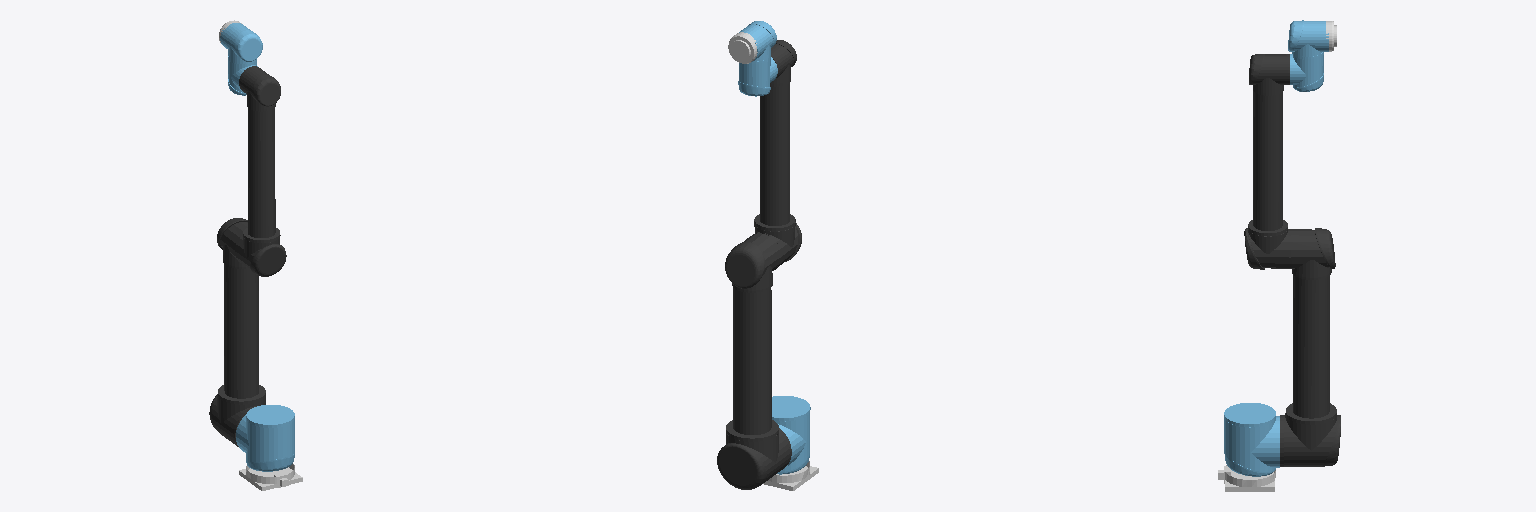
robot.urdf — UR10_urdf:
<?xml version="1.0"?>
<robot name="UR10_urdf">
    <link name="base">
        <inertial>
            <origin xyz="0.000000 0.000000 0.000000" rpy="-3.141593 3.141593 -3.141593" />
            <inertia ixx="0.031399998813868" ixy="0.0" ixz="0.0" iyy="0.031399998813868" izz="0.031399998813868" iyz="0.0" />
            <mass value="1.5700000524521" />
        </inertial>
        <collision>
            <origin xyz="0.000000 0.000000 0.000000" rpy="-3.141593 3.141593 -3.141593" />
            <geometry>
                <mesh filename="package://ur_description/meshes/ur10/ur10_base.dae" />
            </geometry>
        </collision>
        <visual>
            <origin xyz="0.000000 0.000000 0.000000" rpy="-3.141593 3.141593 -3.141593" />
            <geometry>
                <mesh filename="package://ur_description/meshes/ur10/ur10_base_visual.dae" />
            </geometry>
            <material name="base_texture">
                <color rgba="0.870588 0.870588 0.870588 1.0" />
            </material>
        </visual>
    </link>
    <link name="link1">
        <inertial>
            <origin xyz="0.000000 0.000000 0.000000" rpy="0 3.141593 3.141593" />
            <inertia ixx="0.15600000321865" ixy="0.0" ixz="0.0" iyy="0.15600000321865" izz="0.15600000321865" iyz="0.0" />
            <mass value="3.9000000953674" />
        </inertial>
        <collision>
            <origin xyz="0.000000 0.000000 0.000000" rpy="0 3.141593 -3.141593" />
            <geometry>
                <mesh filename="package://ur_description/meshes/ur10/ur10_link1.dae" />
            </geometry>
        </collision>
        <visual>
            <origin xyz="-0.000095 0.000209 0.000015" rpy="0 3.141593 -3.141593" />
            <geometry>
                <mesh filename="package://ur_description/meshes/ur10/ur10_link1_visual.dae" />
            </geometry>
            <material name="link1_texture">
                <color rgba="0.508235 0.761224 0.903529 1.0" />
            </material>
        </visual>
    </link>
    <joint name="joint1" type="revolute">
        <axis xyz="0 0 1" />
        <limit upper="6.2831854820251" lower="-6.2831854820251" effort="600.0" velocity="1.0471975803375" />
        <parent link="base" />
        <child link="link1" />
        <origin xyz="0.000097 0.013831 0.107586" rpy="-3.14 3.14 0" />
    </joint>
    <link name="link2">
        <inertial>
            <origin xyz="0.000302 0.300694 0.169547" rpy="1.57 0 -3.14" />
            <inertia ixx="0.533999979496" ixy="0.0" ixz="0.0" iyy="0.533999979496" izz="0.35599997639656" iyz="0.0" />
            <mass value="8.8999996185303" />
        </inertial>
        <collision>
            <origin xyz="0.000302 0.300694 0.169547" rpy="1.57 0 -3.14" />
            <geometry>
                <mesh filename="package://ur_description/meshes/ur10/ur10_link2.dae" />
            </geometry>
        </collision>
        <visual>
            <origin xyz="0.000302 0.300694 0.169547" rpy="1.57 0 -3.14" />
            <geometry>
                <mesh filename="package://ur_description/meshes/ur10/ur10_link2_visual.dae" />
            </geometry>
            <material name="link2_texture">
                <color rgba="0.282353 0.282353 0.282353 1.0" />
            </material>
        </visual>
    </link>
    <joint name="joint2" type="revolute">
        <axis xyz="0 0 1" />
        <limit upper="6.2831854820251" lower="-6.2831854820251" effort="600.0" velocity="1.0471975803375" />
        <parent link="link1" />
        <child link="link2" />
        <origin xyz="0.000207 -0.000138 -0.000448" rpy="1.571242 0 0" />
    </joint>
    <link name="link3">
        <inertial>
            <origin xyz="-0.000117 0.28091 -0.086" rpy="-1.57 3.14 0" />
            <inertia ixx="0.33550000190735" ixy="0.0" ixz="0.0" iyy="0.33550000190735" izz="0.24399998784065" iyz="0.0" />
            <mass value="6.0999999046326" />
        </inertial>
        <collision>
            <origin xyz="-0.000117 0.28091 -0.086" rpy="-1.57 3.14 0" />
            <geometry>
                <mesh filename="package://ur_description/meshes/ur10/ur10_link3.dae" />
            </geometry>
        </collision>
        <visual>
            <origin xyz="-0.000117 0.28091 -0.086" rpy="-1.57 3.14 0" />
            <geometry>
                <mesh filename="package://ur_description/meshes/ur10/ur10_link3_visual.dae" />
            </geometry>
            <material name="link3_texture">
                <color rgba="0.282353 0.282353 0.282353 1.0" />
            </material>
        </visual>
    </link>
    <joint name="joint3" type="revolute">
        <axis xyz="0 0 1" />
        <limit upper="6.2831854820251" lower="-6.2831854820251" effort="600.0" velocity="1.0471975803375" />
        <parent link="link2" />
        <child link="link3" />
        <origin xyz="0.000323 0.610802 0.130180" rpy="0 0 0" />
    </joint>
    <link name="link4">
        <inertial>
            <origin xyz="-0.000023 0.0 0.095" rpy="-1.57 -3.14 0" />
            <inertia ixx="0.15600000321865" ixy="0.0" ixz="0.0" iyy="0.15600000321865" izz="0.15600000321865" iyz="0.0" />
            <mass value="3.9000000953674" />
        </inertial>
        <collision>
            <origin xyz="-0.000023 0.0 0.095" rpy="-1.57 -3.14 0" />
            <geometry>
                <mesh filename="package://ur_description/meshes/ur10/ur10_link4.dae" />
            </geometry>
        </collision>
        <visual>
            <origin xyz="-0.000023 0.0 0.095" rpy="-1.57 -3.14 0" />
            <geometry>
                <mesh filename="package://ur_description/meshes/ur10/ur10_link4_visual.dae" />
            </geometry>
            <material name="link4_texture">
                <color rgba="0.508235 0.761224 0.903529 1.0" />
            </material>
        </visual>
    </link>
    <joint name="joint4" type="revolute">
        <axis xyz="0 0 1" />
        <limit upper="6.2831854820251" lower="-6.2831854820251" effort="600.0" velocity="1.0471975803375" />
        <parent link="link3" />
        <child link="link4" />
        <origin xyz="0.0000255 0.5759 -0.069749" rpy="0 0 0" />
    </joint>
    <link name="link5">
        <inertial>
            <origin xyz="0.000000 0.000000 0.1" rpy="0 0 3.14" />
            <inertia ixx="0.15600000321865" ixy="0.0" ixz="0.0" iyy="0.15600000321865" izz="0.15600000321865" iyz="0.0" />
            <mass value="3.9000000953674" />
        </inertial>
        <collision>
            <origin xyz="0.000000 0.000000 0.1" rpy="0 0 3.14" />
            <geometry>
                <mesh filename="package://ur_description/meshes/ur10/ur10_link5.dae" />
            </geometry>
        </collision>
        <visual>
            <origin xyz="0.000022 0 0.1" rpy="0 0 3.14" />
            <geometry>
                <mesh filename="package://ur_description/meshes/ur10/ur10_link5_visual.dae" />
            </geometry>
            <material name="link5_texture">
                <color rgba="0.508235 0.761224 0.903529 1.0" />
            </material>
        </visual>
    </link>
    <joint name="joint5" type="revolute">
        <axis xyz="0 0 1" />
        <limit upper="6.2831854820251" lower="-6.2831854820251" effort="600.0" velocity="1.0471975803375" />
        <parent link="link4" />
        <child link="link5" />
        <origin xyz="0.000 0.00 0.1" rpy="-1.57 0 0" />
    </joint>
    <link name="link6">
        <inertial>
            <origin xyz="0.000000 0.000000 0.000000" rpy="-3.141593 0 -3.141593" />
            <inertia ixx="0.010999999940395" ixy="0.0" ixz="0.0" iyy="0.010999999940395" izz="0.010999999940395" iyz="0.0" />
            <mass value="1.1000000238419" />
        </inertial>
        <collision>
            <origin xyz="0.000000 0.000000 0.000000" rpy="-3.141593 0 -3.141593" />
            <geometry>
                <cylinder length="0.023004442453384" radius="0.044264044612646" />
            </geometry>
        </collision>
        <visual>
            <origin xyz="-0.000001 -0.000000 -0.003751" rpy="1.570844 0 -1.464497" />
            <geometry>
                <mesh filename="package://ur_description/meshes/ur10/ur10_link6_visual.dae" />
            </geometry>
            <material name="link6_texture">
                <color rgba="0.870588 0.870588 0.870588 1.0" />
            </material>
        </visual>
    </link>
    <joint name="joint6" type="revolute">
        <axis xyz="0 0 1" />
        <limit upper="6.2831854820251" lower="-6.2831854820251" effort="600.0" velocity="1.0471975803375" />
        <parent link="link5" />
        <child link="link6" />
        <origin xyz="0 -0.07 0.105" rpy="1.571242 0 0.000" />
    </joint>
</robot>

--- Facts derived from the render (not from the file) ---
3 views of the same robot in one strip: view 1: azimuth 30°, elevation 25°; view 2: azimuth 150°, elevation 25°; view 3: azimuth 270°, elevation 25° (orthographic).
Model UR10_urdf with 7 links and 6 joints (6 revolute), rooted at base, posed every joint at zero.
Links seen in each view (by area): view 1: link2, link3, link1, link5, base; view 2: link2, link3, link1, link4, link5, base, link6; view 3: link2, link3, link1, link5, link4, base.
Link boxes in pixels (box(x1,y1,x2,y2)): link2: box(209, 218, 265, 446); link3: box(235, 66, 286, 276); link1: box(236, 405, 294, 471); link5: box(220, 23, 262, 63); base: box(239, 464, 302, 490); link2: box(717, 234, 791, 489); link3: box(753, 40, 801, 270); link1: box(772, 396, 810, 474); link4: box(738, 57, 777, 96); link5: box(739, 21, 776, 61); base: box(763, 461, 818, 490); link6: box(728, 32, 757, 63); link2: box(1280, 228, 1340, 466); link3: box(1244, 54, 1291, 269); link1: box(1224, 403, 1279, 476); link5: box(1288, 20, 1328, 59); link4: box(1290, 52, 1323, 91); base: box(1218, 465, 1275, 491).
Bounding box of the posed robot: 0.1515 × 0.3555 × 1.46 m (x, y, z).
Meshes: 7 distinct files referenced, 7 mesh visuals loaded (7 Collada DAE).
